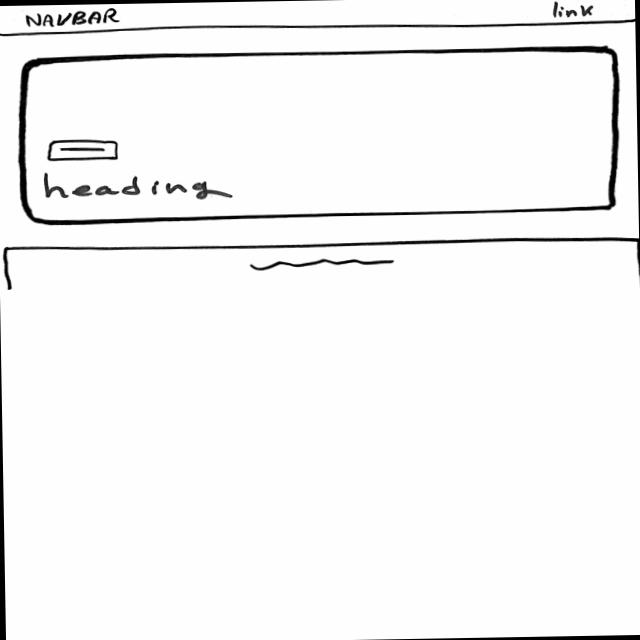container: (16, 45, 624, 227), (1, 1, 635, 36)
icon-button: (47, 138, 123, 163)
label: (43, 170, 232, 204), (23, 7, 125, 29), (551, 2, 597, 19)
text: (248, 256, 398, 273)
